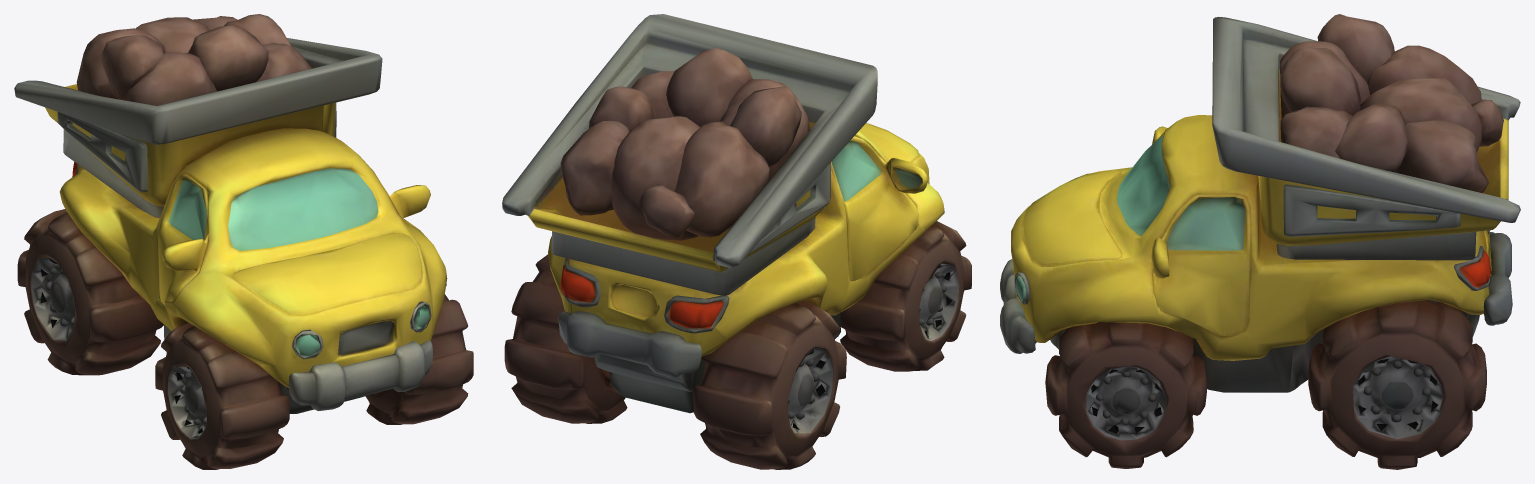
3 renders of one model, left to right at view 1: azimuth 30°, elevation 25°; view 2: azimuth 150°, elevation 25°; view 3: azimuth 270°, elevation 25°, orthographic. The views are drawn at different scales.
Visible parts, largest first — view 1: plush_truck; view 2: plush_truck; view 3: plush_truck.
Boxes of the visible parts, x1=… form: plush_truck: x1=14, y1=14, x2=473, y2=469; plush_truck: x1=502, y1=14, x2=971, y2=469; plush_truck: x1=1000, y1=14, x2=1520, y2=469.
Size of the model in its own units: 2.93 by 3.68 by 4.77.
Materials: 12 (2 with a texture image).
